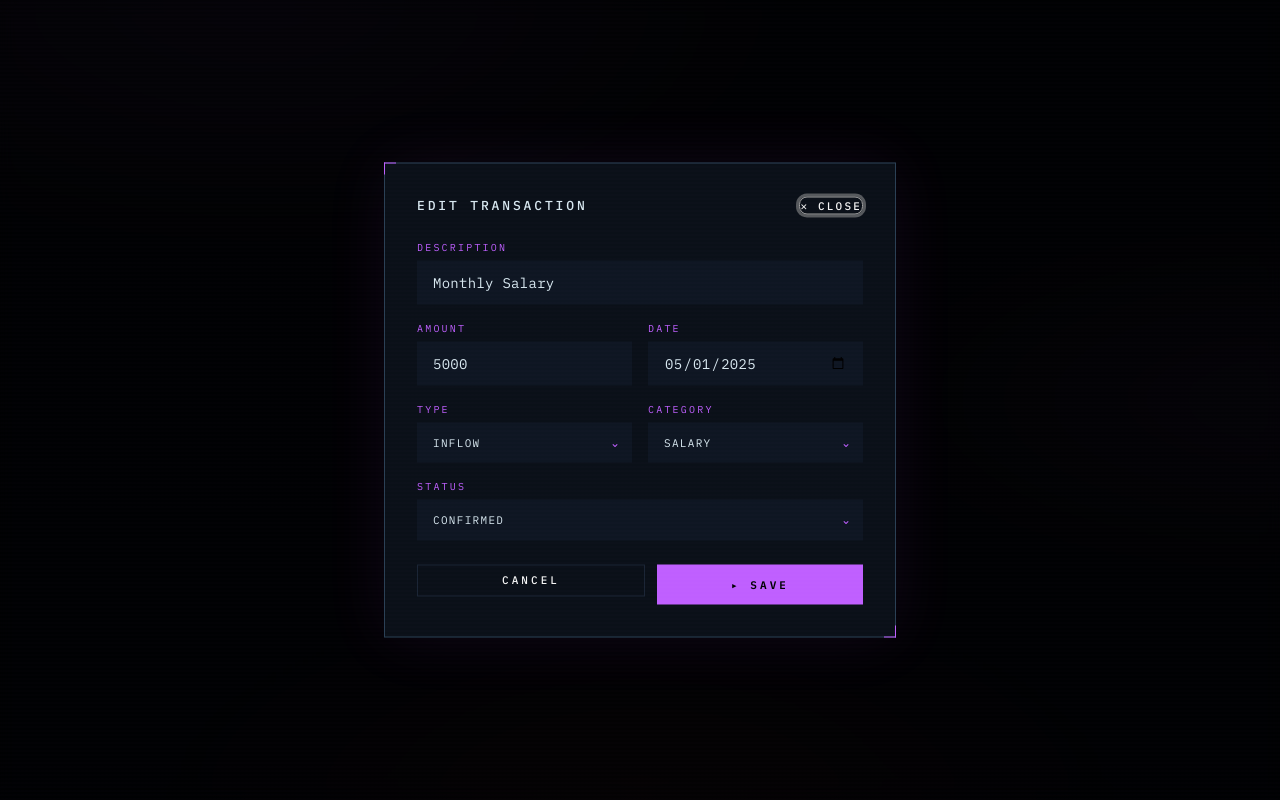
Scenario: EditTransactionModal › validation › shows description error when submitting with empty description
This screenshot has width=1280, height=800.
Clear the field showing "Monthly Salary". click: {"x": 640, "y": 282}
box: [417, 260, 863, 304]
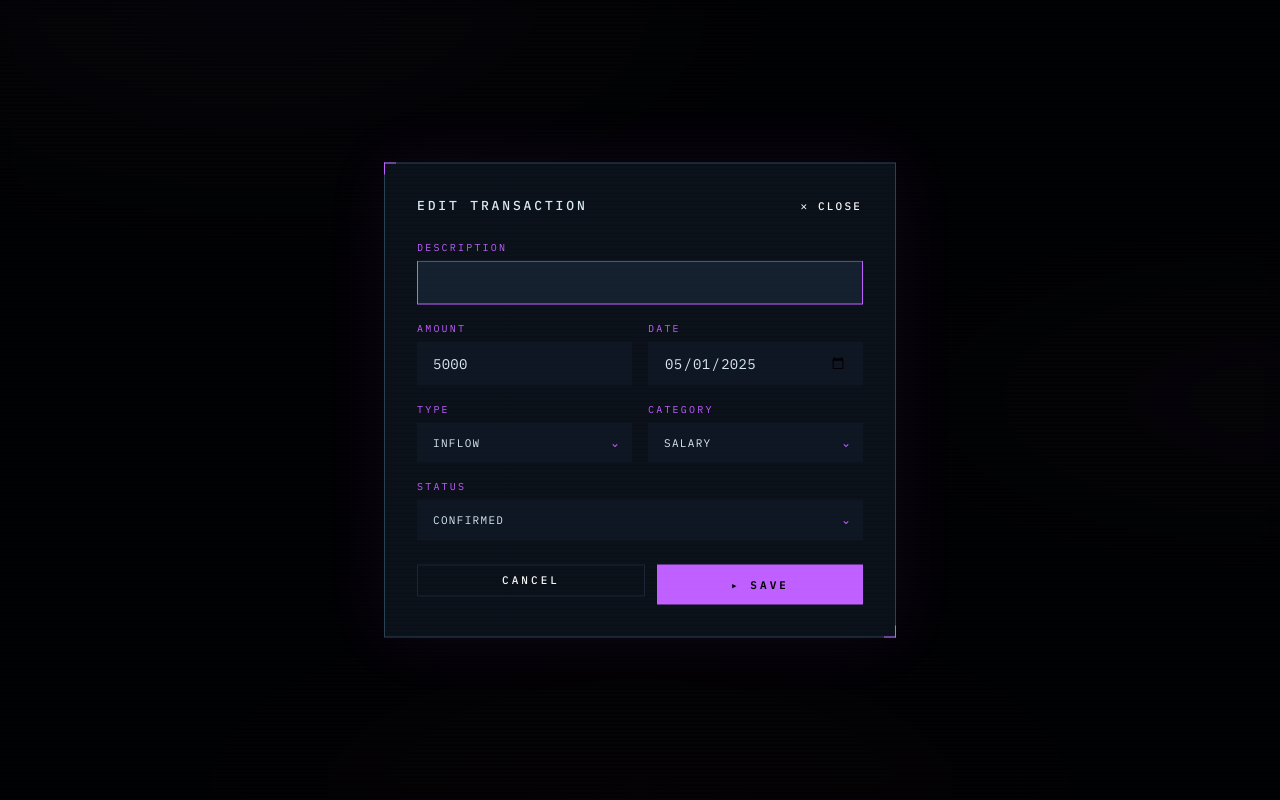
Click the button "▸ Save". click: {"x": 760, "y": 584}
box: [657, 564, 863, 604]
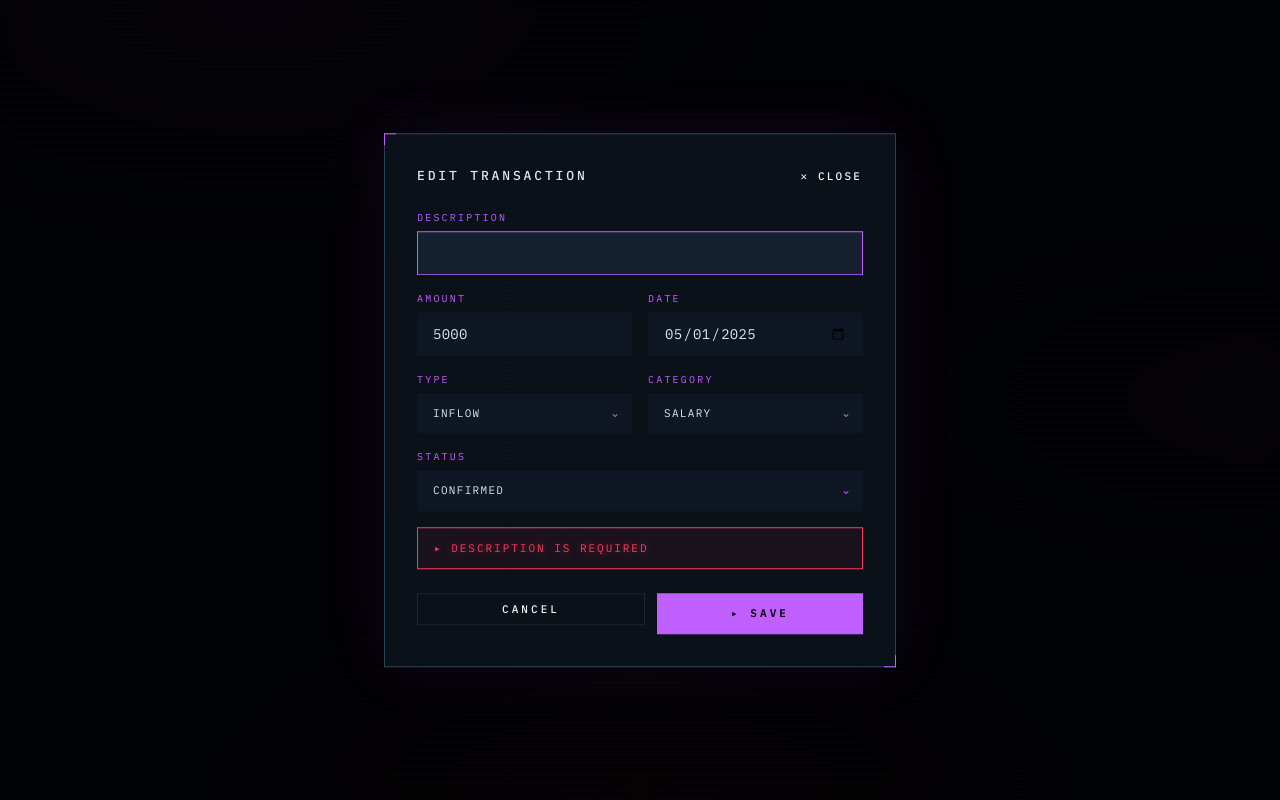
expect the text "▸ Description is required" is shown: met, box [434, 541, 648, 555]
